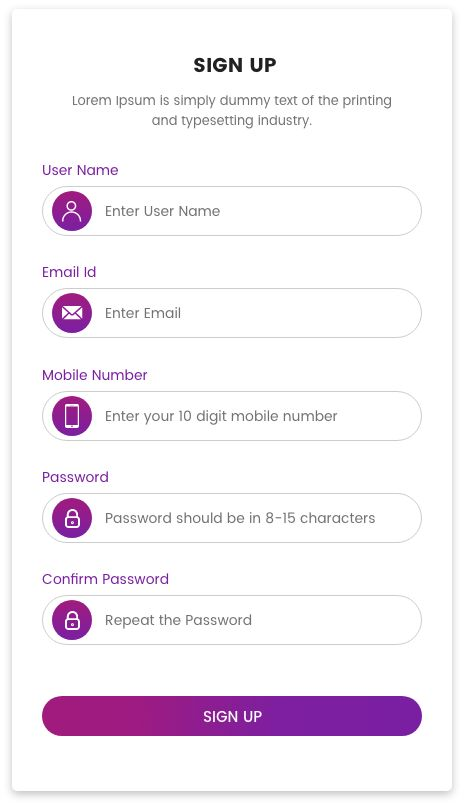_form_: (30, 353, 446, 770), (28, 40, 444, 456)
button: (42, 696, 422, 738)
field: (40, 183, 423, 238), (41, 490, 422, 545), (40, 593, 423, 647), (41, 285, 423, 339), (43, 388, 422, 442)
field_with_label: (37, 161, 428, 241), (39, 470, 427, 549), (35, 573, 428, 650), (39, 367, 426, 443), (39, 267, 425, 342)
